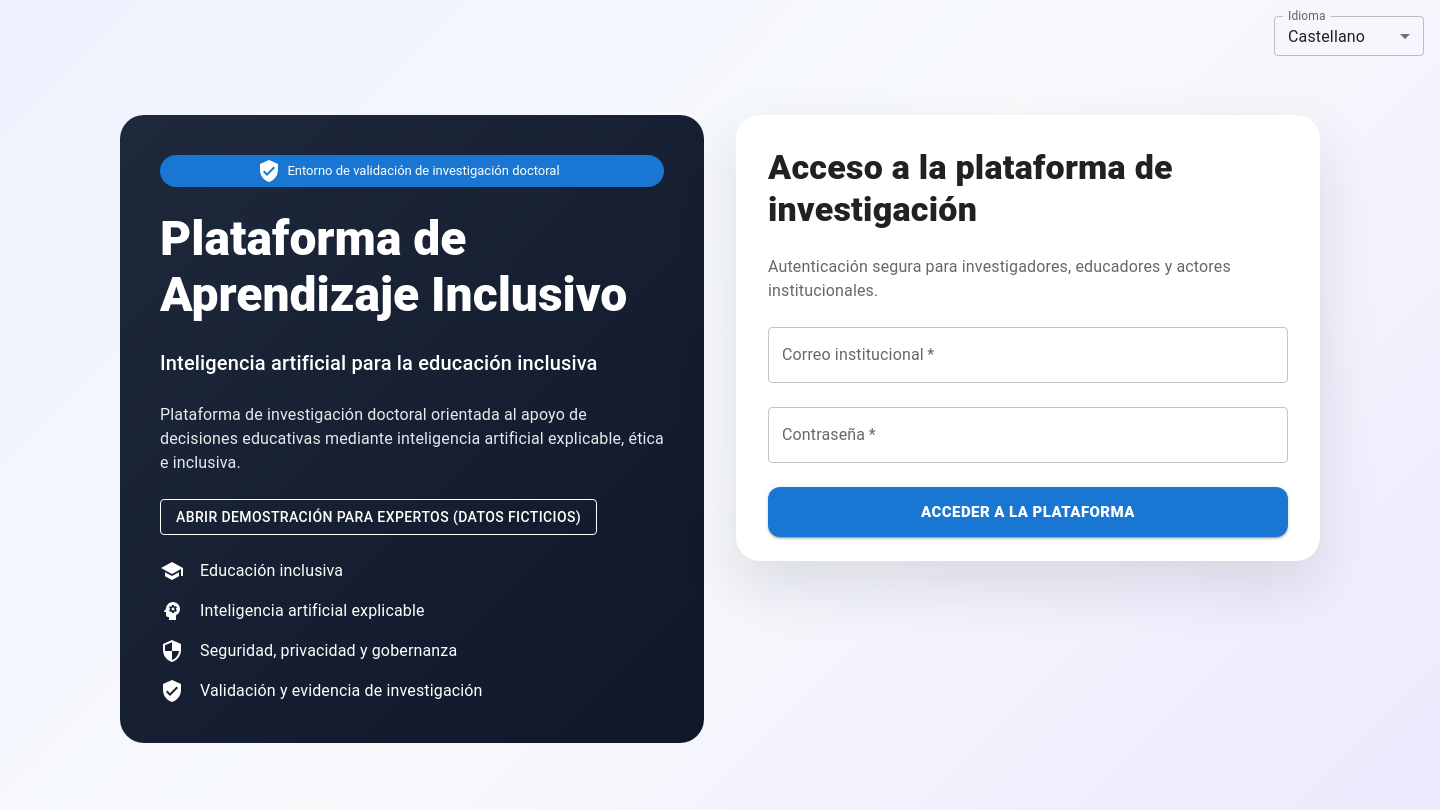
login credential and MFA boundary › blocks invalid email before contacting authentication: missing separator
Type "synthetic@example.test" into the field labelled "Correo institucional".
click(1028, 355); type("synthetic@example.test")  # box [768, 327, 1288, 383]
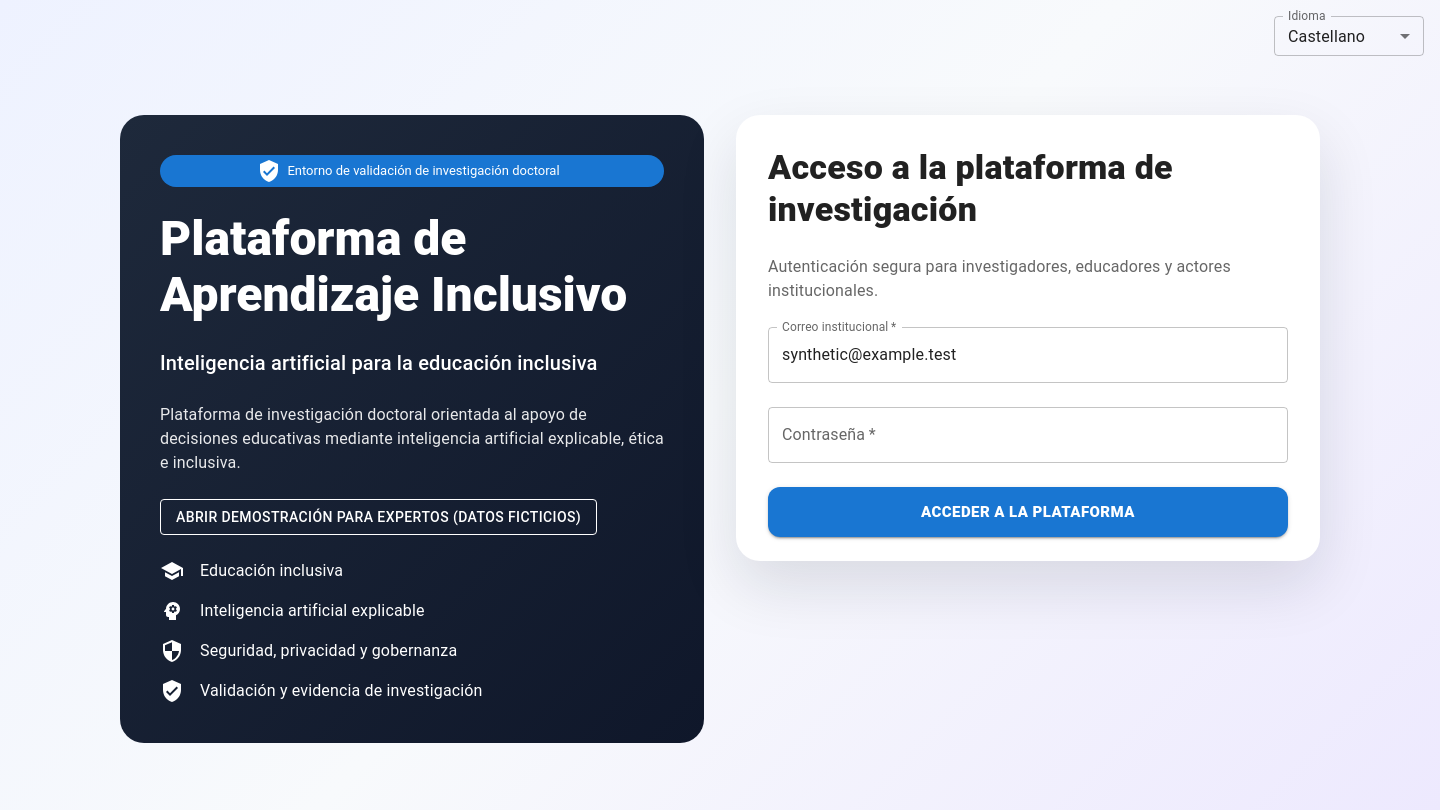
Type "TEST_ONLY_123" into the password field labelled "Contraseña".
click(1028, 435); type("TEST_ONLY_123")  # box [768, 407, 1288, 463]
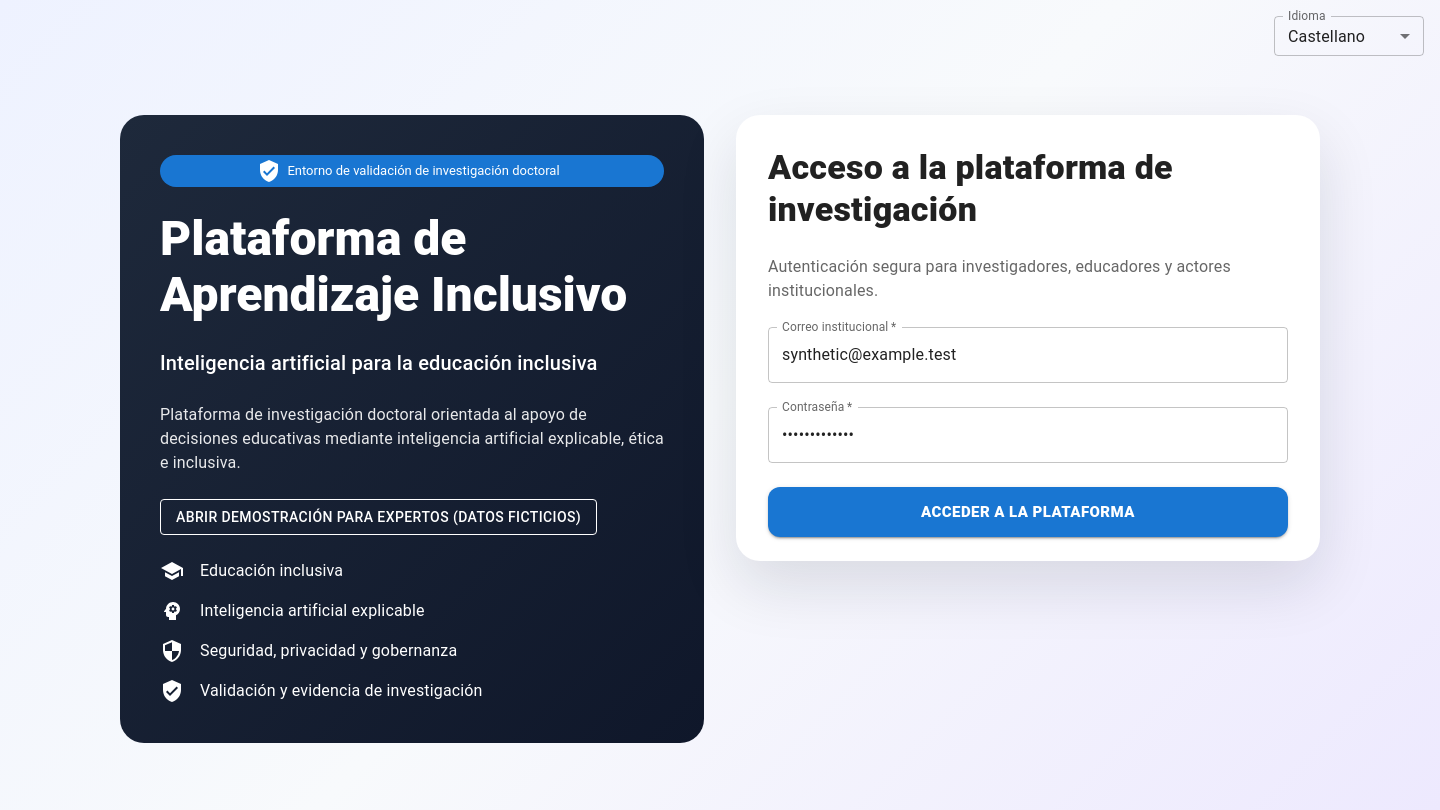
Replace the text in the field labelled "Correo institucional" with "missing-at.example.test" at x=1028, y=355, box [768, 327, 1288, 383]
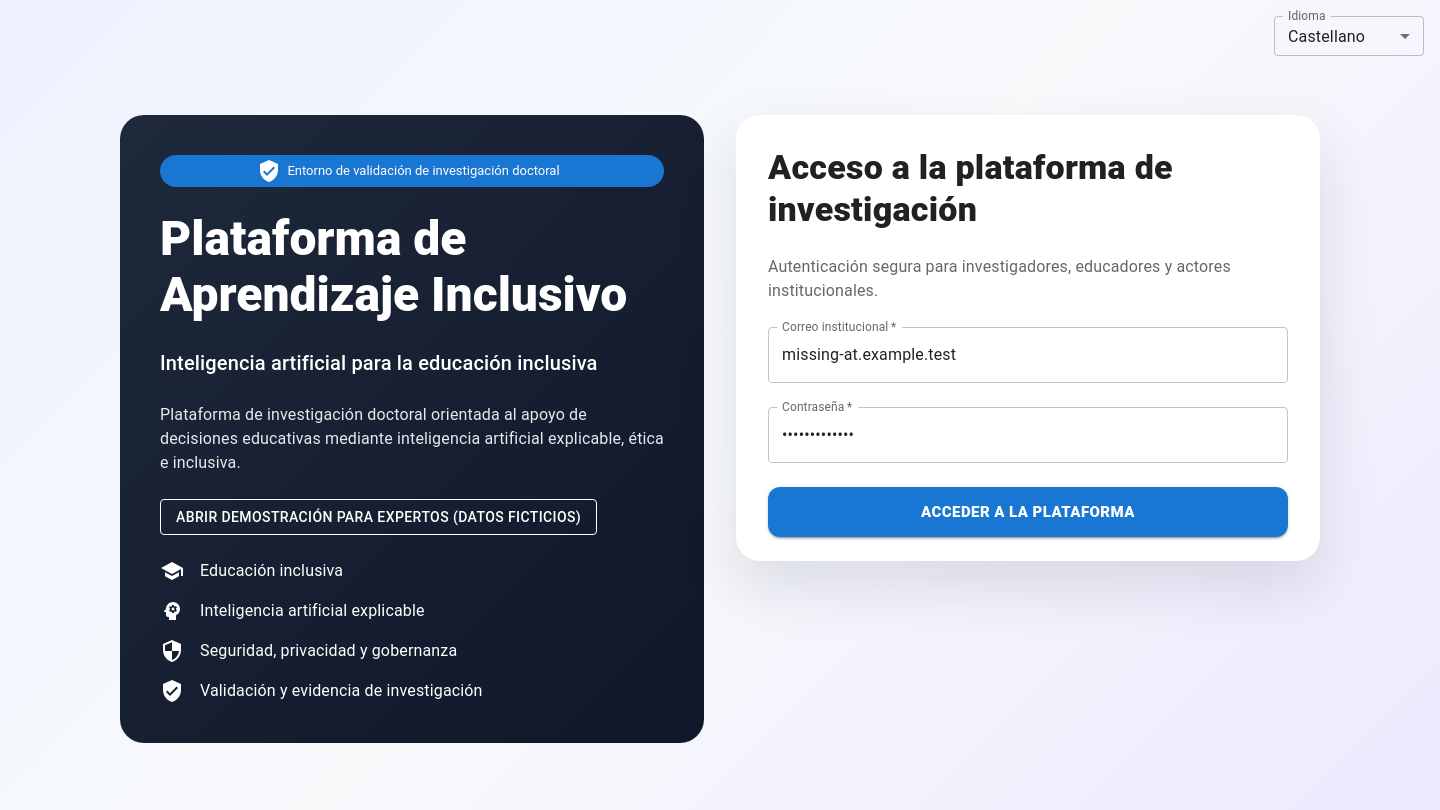
Submit the form, box [768, 147, 1288, 537]
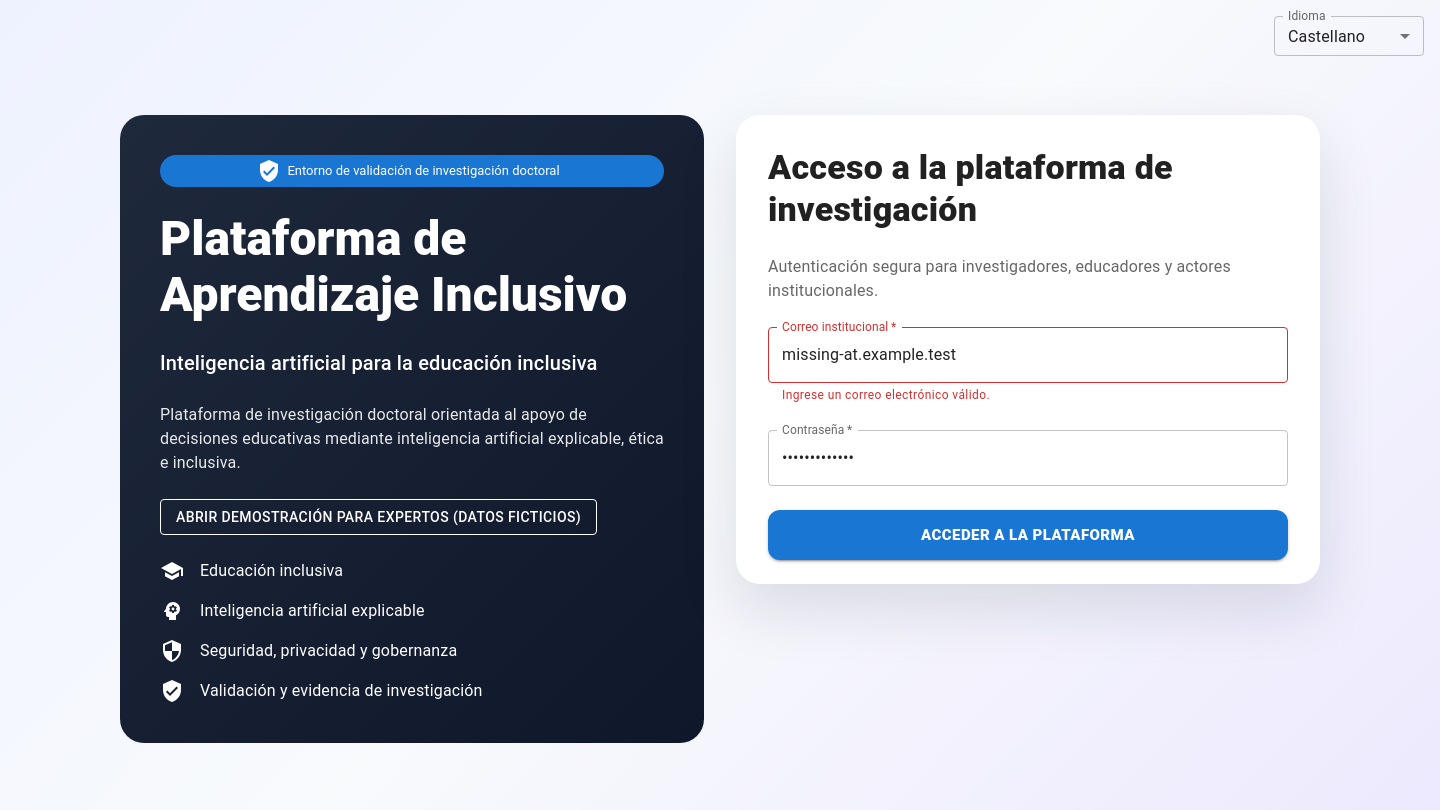
Check: the text "Ingrese un correo electrónico válido." is shown, box [782, 388, 990, 402]
